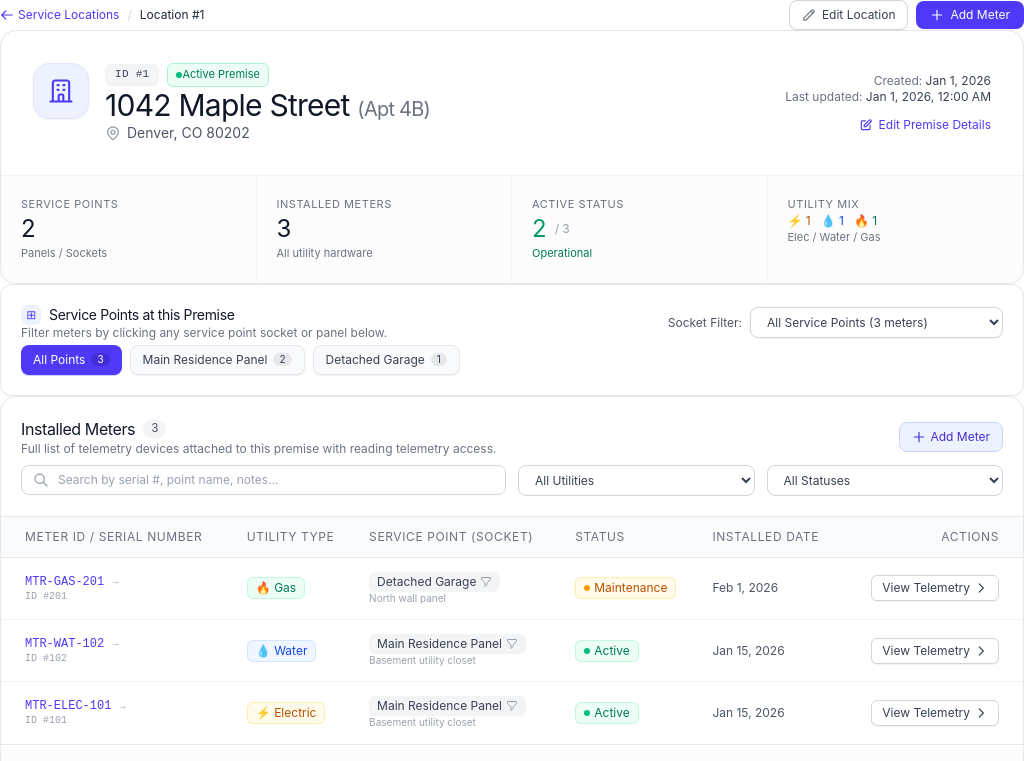
Test: ServiceLocationDetailView.vue › filters meters by search query
The width and height of the screenshot is (1024, 761).
Type "WAT-102" into the field with placeholder "Search by serial #, point name, notes..." at (264, 480), box [21, 465, 506, 495]
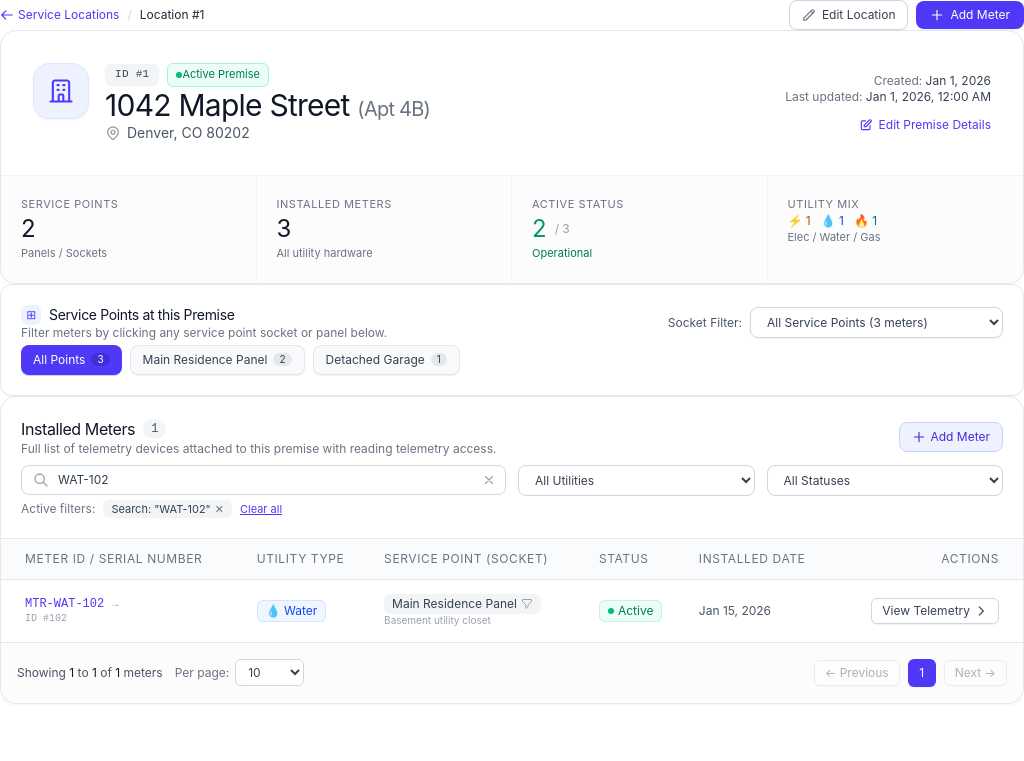
Expected: the text "MTR-WAT-102" is shown, [25, 596, 104, 612]
Expected: the text "MTR-ELEC-101" is gone
Expected: the text "MTR-GAS-201" is gone
